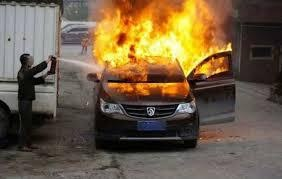fire: (88, 0, 236, 80)
